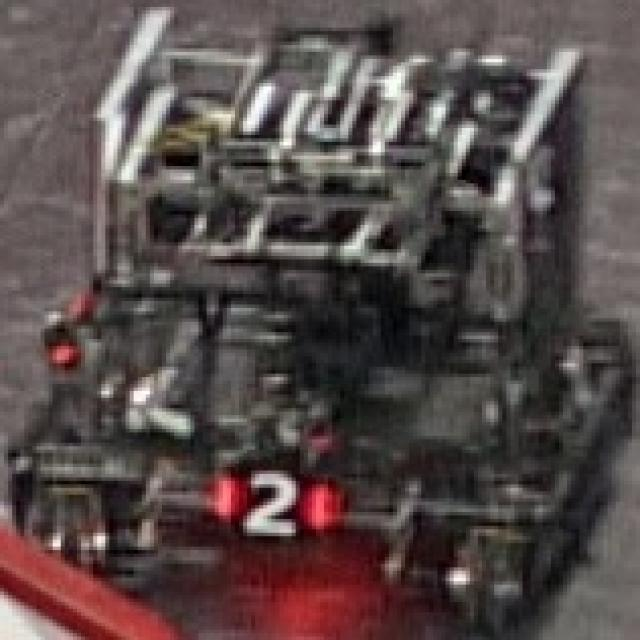R2: (215, 467, 332, 536)
